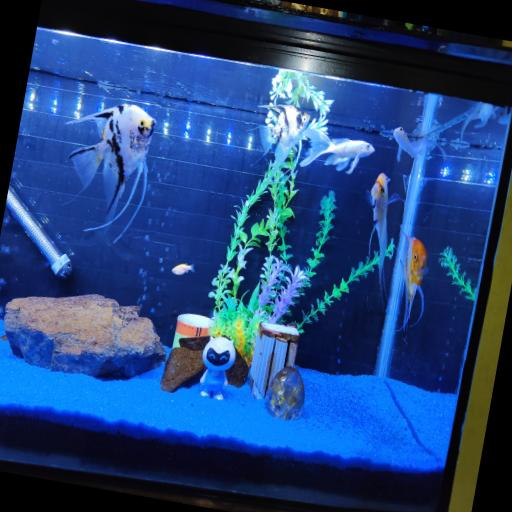Fish: (66, 104, 154, 242), (366, 173, 400, 300), (299, 129, 374, 173), (257, 105, 309, 168), (399, 234, 426, 336), (392, 127, 446, 162), (459, 103, 496, 139), (392, 127, 416, 162), (171, 264, 194, 275), (497, 107, 511, 125), (0, 335, 6, 341), (0, 307, 3, 318)
